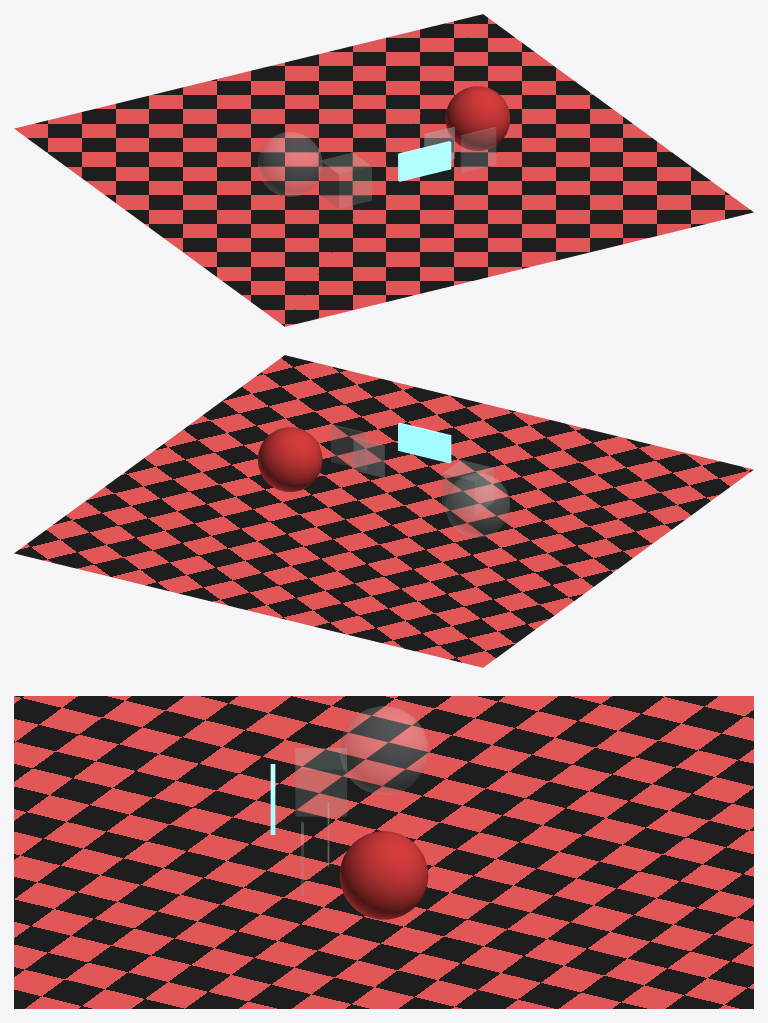
The model's file is ext_test.glb.
The picture shows the model from 3 angles, top to bottom: view 1: azimuth 30°, elevation 25°; view 2: azimuth 150°, elevation 25°; view 3: azimuth 270°, elevation 25°; orthographic projection. The views are drawn at different scales.
Visible parts, largest first — view 1: Checker, Coat, Glass, GlassBlock, Panel, Acrylic; view 2: Checker, Coat, Glass, GlassBlock, Panel, Pane, Acrylic; view 3: Checker, Coat, Glass, GlassBlock.
Boxes of the visible parts, left/top/right/bottom form: Checker: left=14, top=14, right=753, bottom=326; Coat: left=445, top=86, right=510, bottom=150; Glass: left=258, top=132, right=321, bottom=196; GlassBlock: left=320, top=153, right=371, bottom=208; Panel: left=398, top=141, right=451, bottom=181; Acrylic: left=460, top=127, right=495, bottom=172; Checker: left=14, top=355, right=753, bottom=667; Coat: left=257, top=427, right=322, bottom=491; Glass: left=445, top=473, right=509, bottom=537; GlassBlock: left=442, top=460, right=493, bottom=515; Panel: left=398, top=422, right=451, bottom=463; Pane: left=354, top=438, right=384, bottom=477; Acrylic: left=331, top=424, right=366, bottom=466; Checker: left=14, top=696, right=753, bottom=1008; Coat: left=339, top=831, right=428, bottom=919; Glass: left=340, top=706, right=427, bottom=794; GlassBlock: left=295, top=748, right=346, bottom=816.
Size of the model in its own units: 20 by 2.4 by 20.
Materials: 7 (1 with a texture image).
